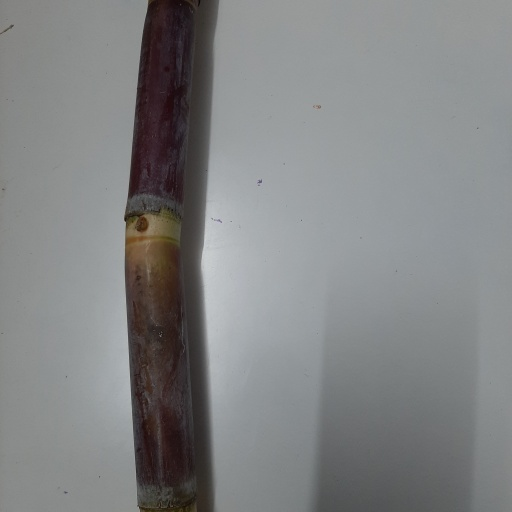Bud: (133, 215, 147, 232)
